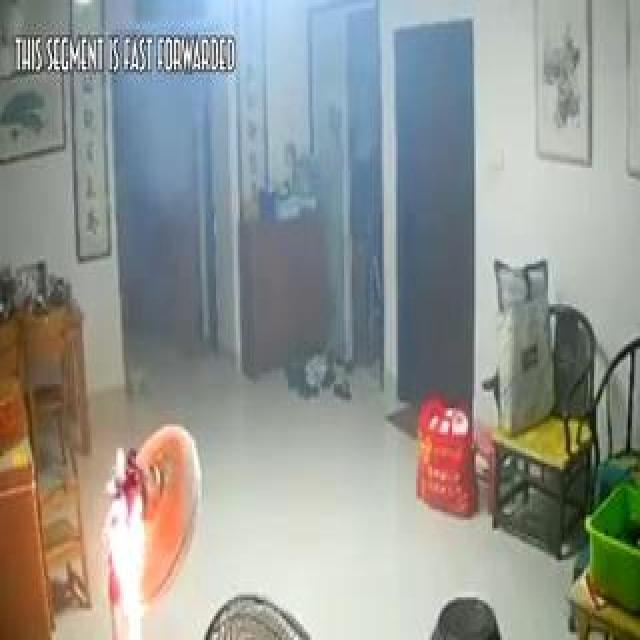Fire: (97, 384, 205, 621)
